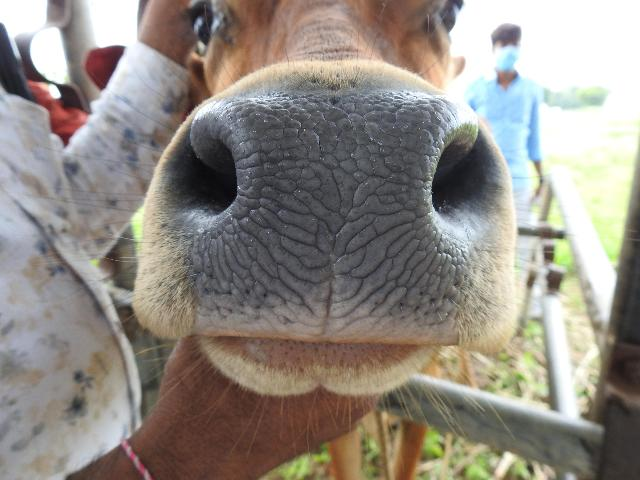Muzzle: (178, 88, 470, 336)
